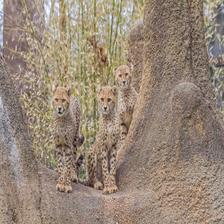Cheetah: (74, 84, 127, 194), (45, 82, 86, 198), (110, 63, 142, 158)
